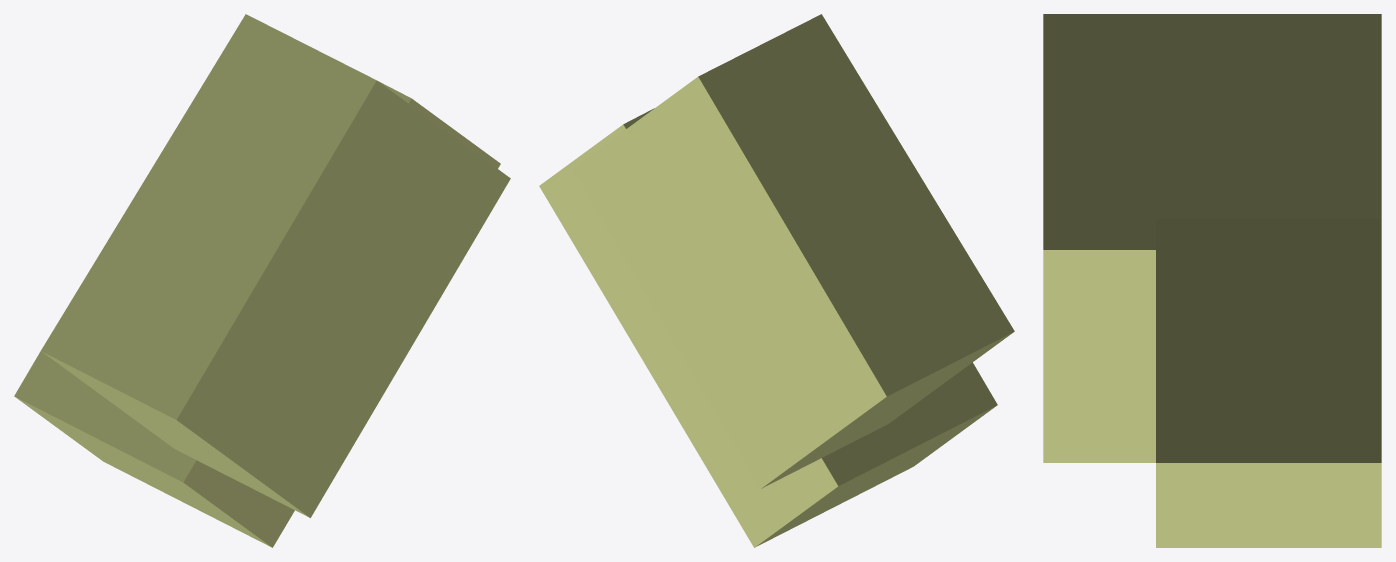
3 renders of one model, left to right at view 1: azimuth 30°, elevation 25°; view 2: azimuth 150°, elevation 25°; view 3: azimuth 270°, elevation 25°, orthographic. The views are drawn at different scales.
Visible parts, largest first — view 1: 0_2_3_2_2_3_1_0_2; view 2: 0_2_3_2_2_3_1_0_2; view 3: 0_2_3_2_2_3_1_0_2.
Part boxes in pixels (bbox=[...]): 0_2_3_2_2_3_1_0_2: bbox=[14, 14, 510, 547]; 0_2_3_2_2_3_1_0_2: bbox=[539, 14, 1014, 547]; 0_2_3_2_2_3_1_0_2: bbox=[1043, 14, 1381, 547].
Size of the model in its own units: 15.41 by 16.79 by 9.
